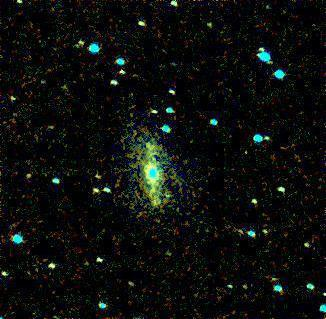star: (136, 137, 166, 167)
